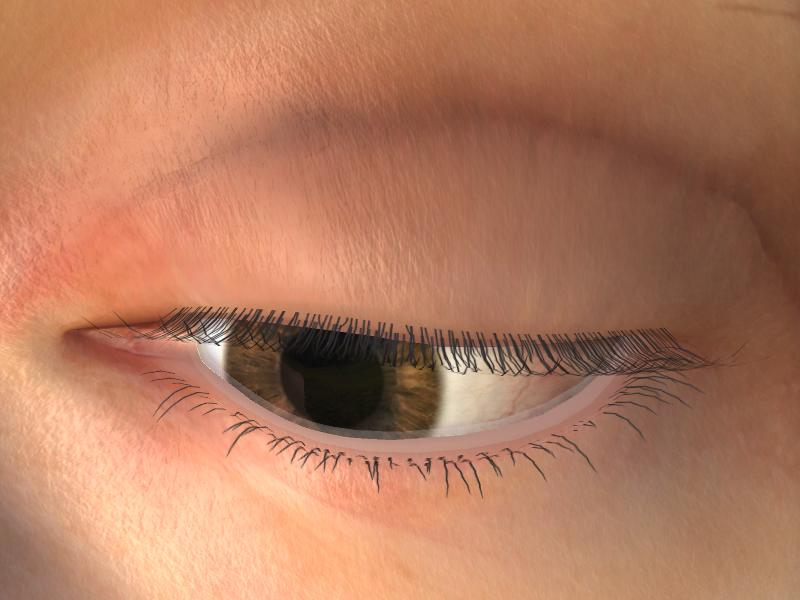eye: (223, 316, 442, 439)
